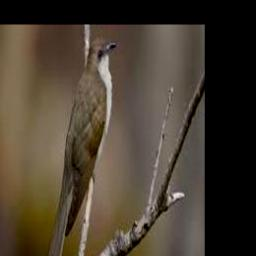Cuckoo: (36, 38, 118, 256)
